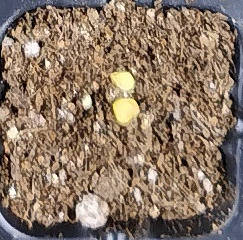pepper seed: (41, 36, 182, 161), (41, 25, 177, 116)
